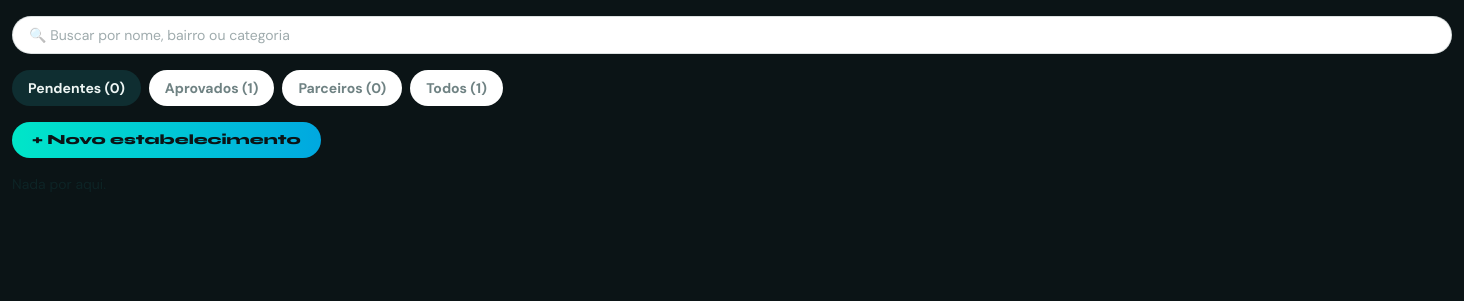
Test: PlacesTabs › shows an error message when deleting fails, and keeps the place in the list
This screenshot has width=1464, height=301.
Click the button "Aprovados (1)": (212, 88) [149,70,274,106]
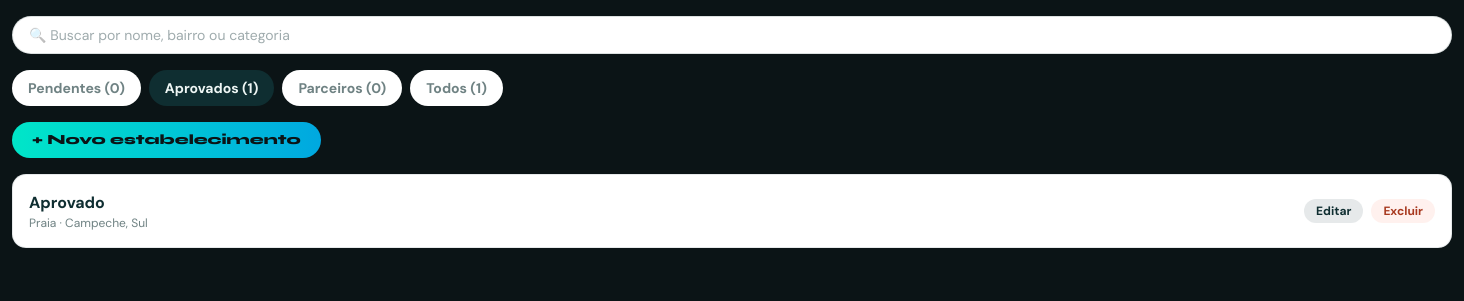
Click the button "Excluir": (1403, 211) [1371,199,1435,223]
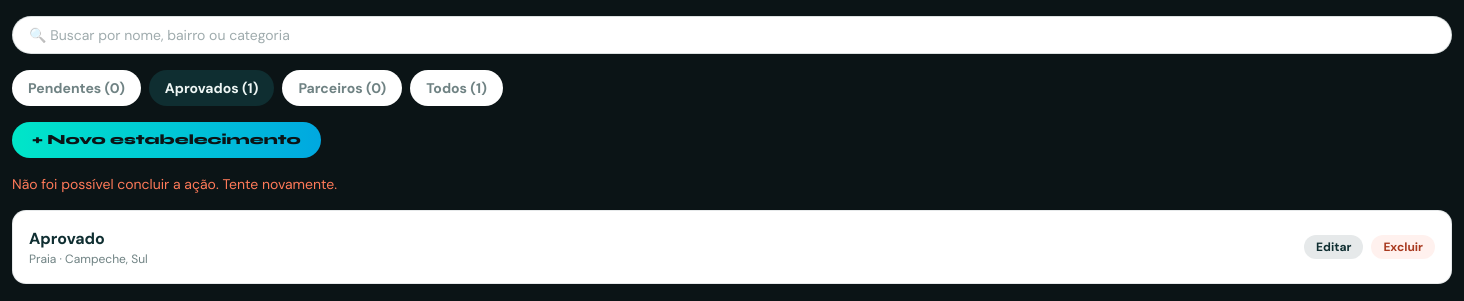
Result: the text "Aprovado" is shown at [29,228,105,249]
Result: the text "Não foi possível concluir a ação. Tente novamente." is shown at [12,175,337,193]
